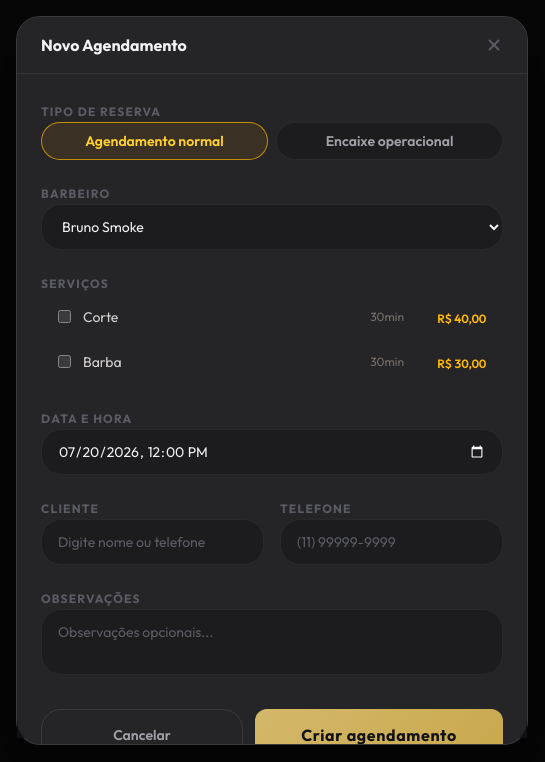
Test: UI Cliente Clube no Modal de Agendamentos › 2. Cliente com Clube ACTIVE: mostra badge Cliente Clube e serviço coberto R$ 0,00
The image size is (545, 762).
Type "Maria" into the search field titled "Cliente" at (152, 542), box [41,518,264,564]
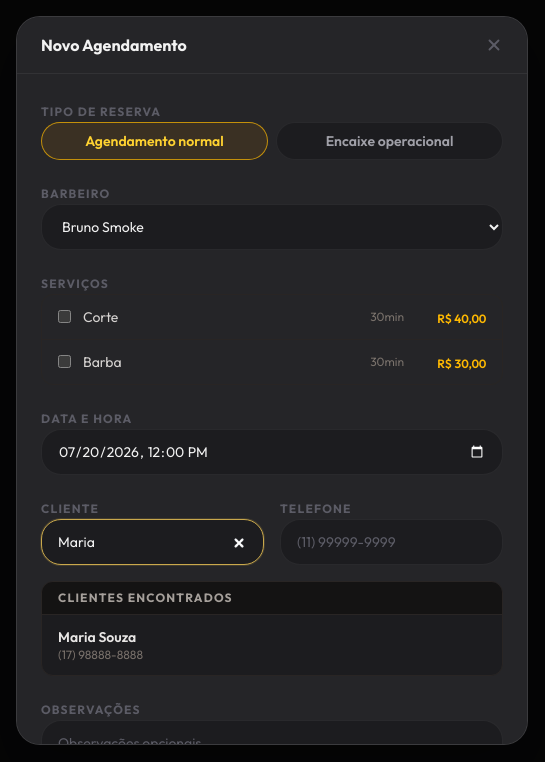
Check: the text "Maria Souza" is shown
Click the text "Maria Souza" at (97, 636), box [58,628,136,646]
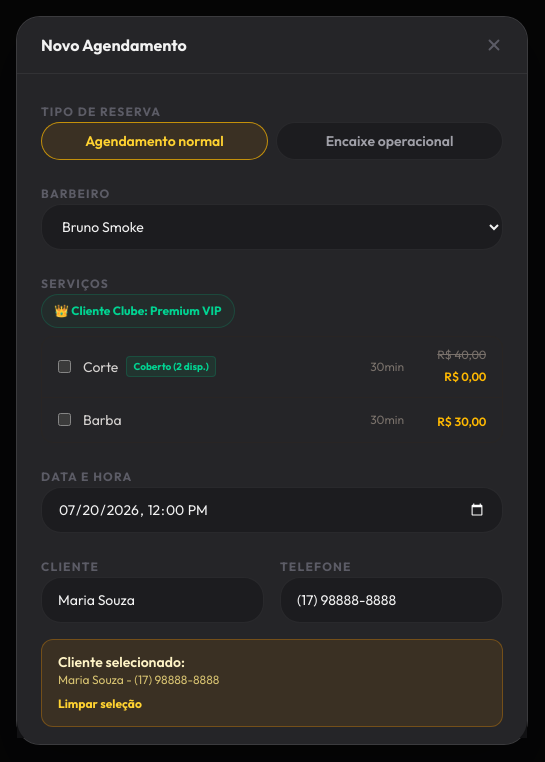
Check: the text "👑 Cliente Clube: Premium VIP" is shown, box [54,302,222,318]
Check: the text "Coberto (2 disp.)" is shown, box [126,356,216,377]
Check: the text "R$ 0,00" is shown, box [444,368,486,384]
